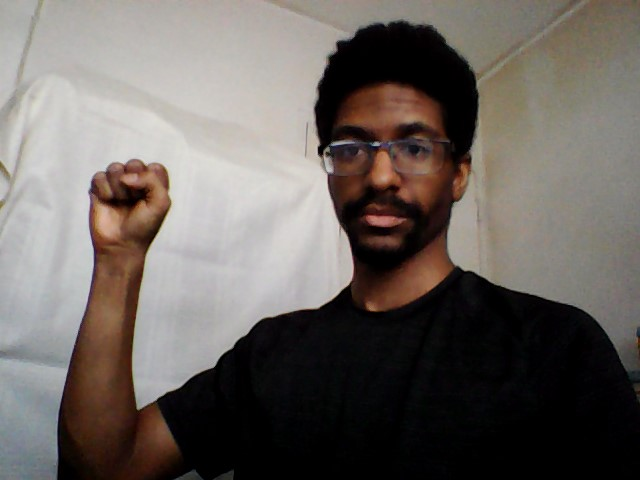s: (85, 156, 177, 255)
